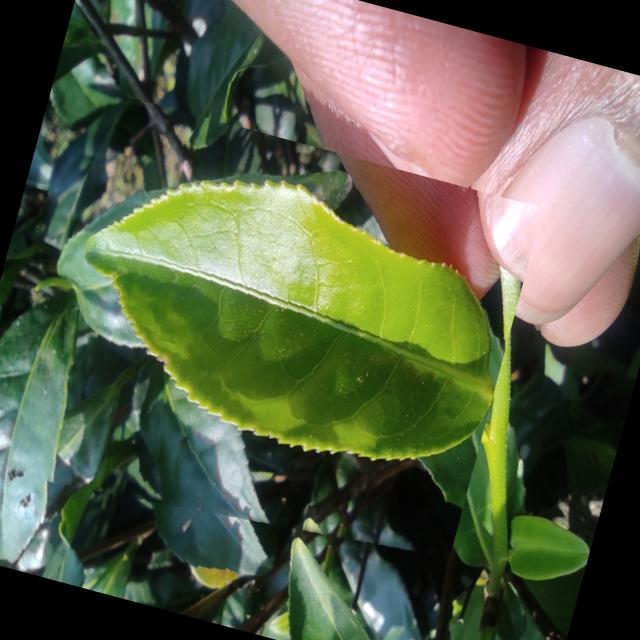Category C(4-7 days): (8, 91, 543, 588)
